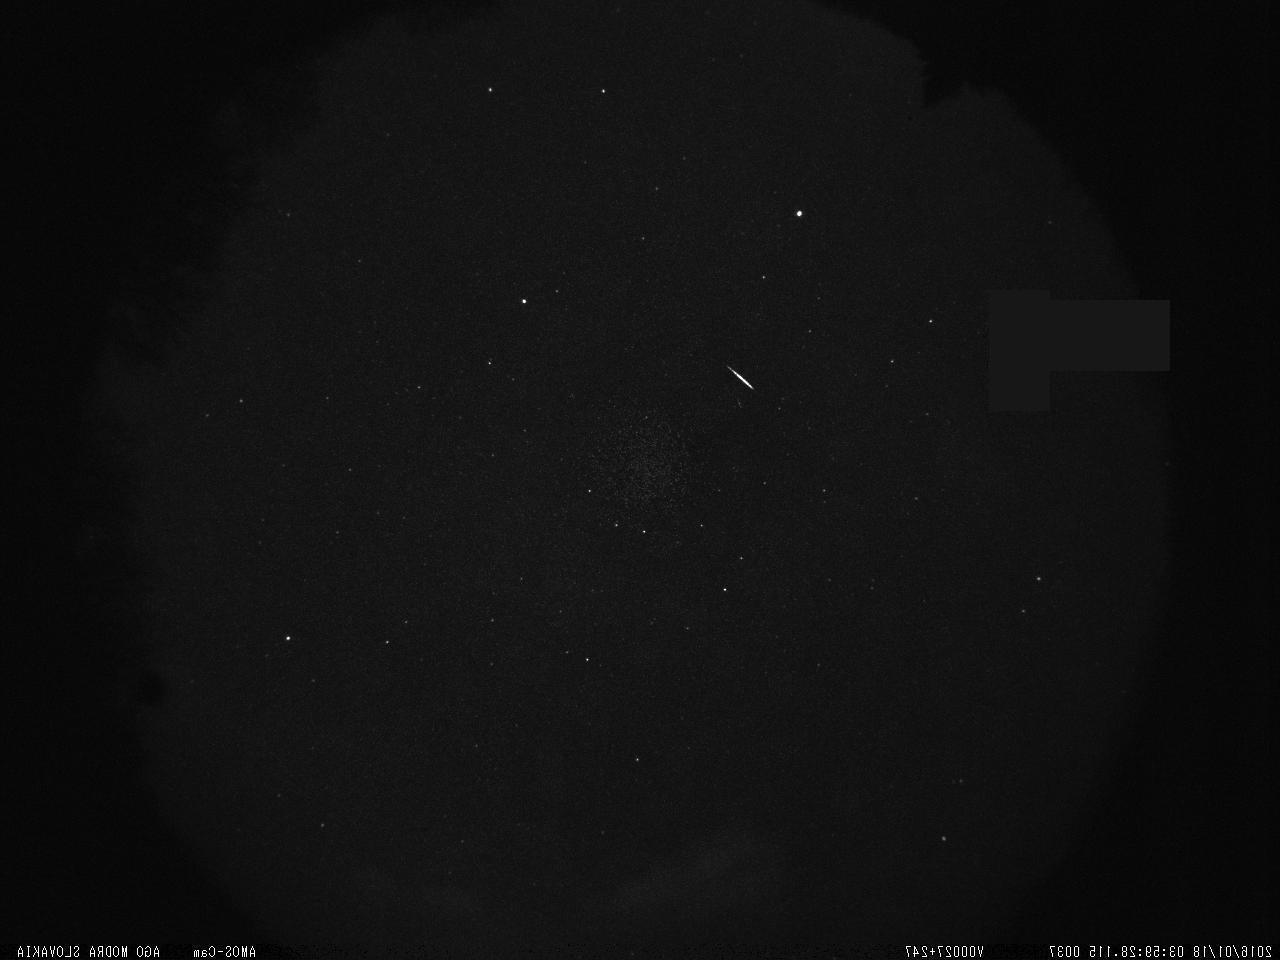meteor: (714, 353, 765, 398)
